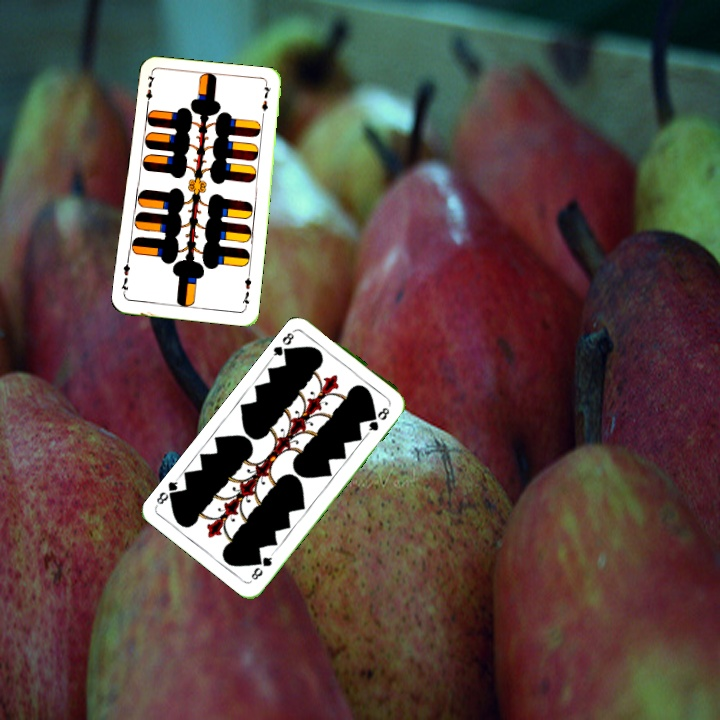E7: (238, 270, 254, 310), (142, 70, 157, 111)
G8: (268, 325, 298, 360), (247, 549, 276, 583)
